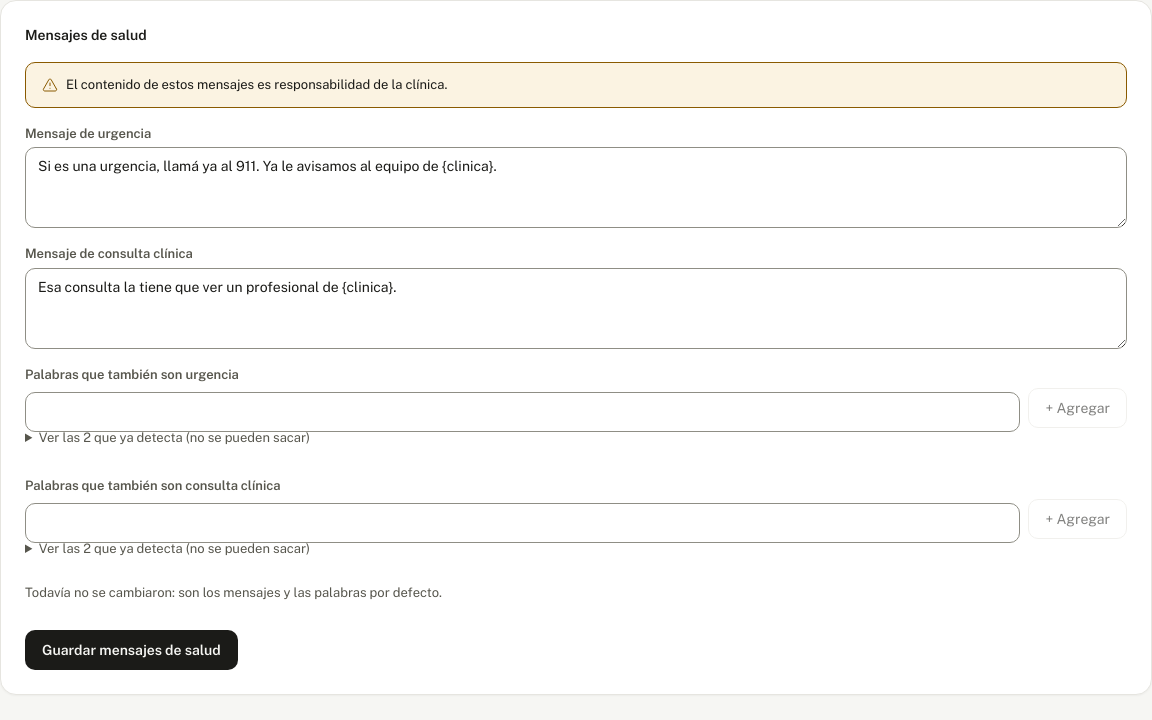
Test: MensajesDeSaludSection › guarda con su propio botón: el texto por defecto viaja como null y los términos agregados
Type "Botox" into the field labelled "Palabras que también son consulta clínica" at (523, 523), box [25, 503, 1020, 543]
Then press Enter
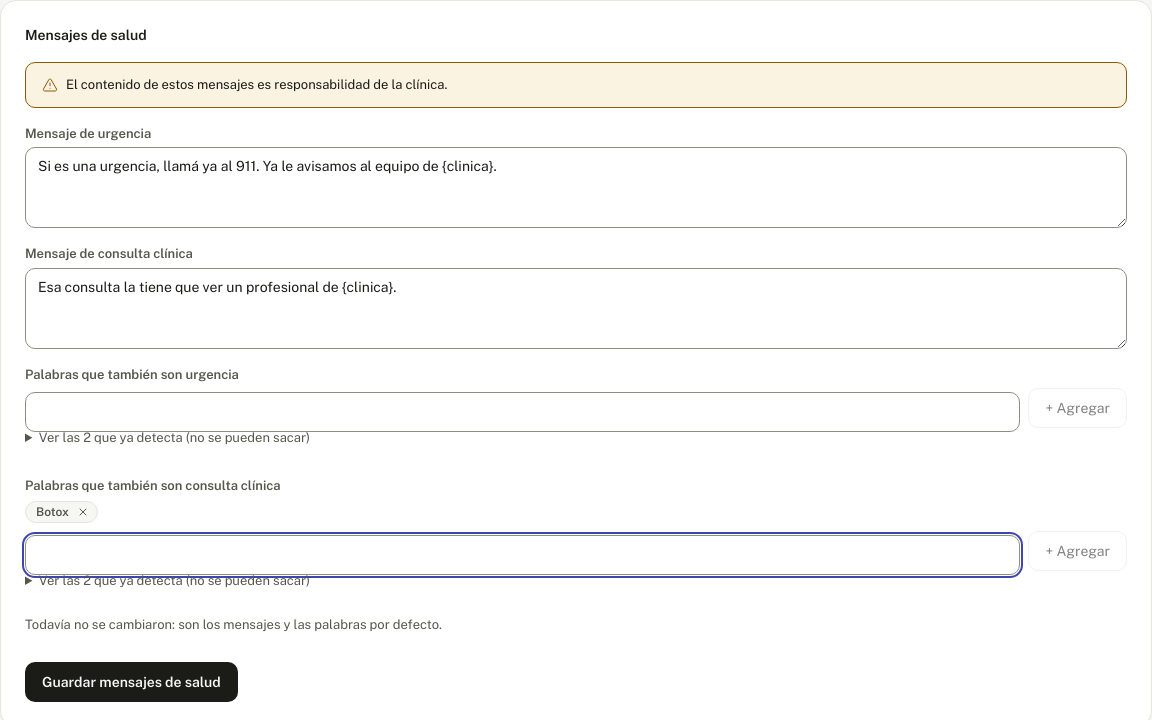
Click the button "Guardar mensajes de salud" at (131, 682), box [25, 662, 238, 702]
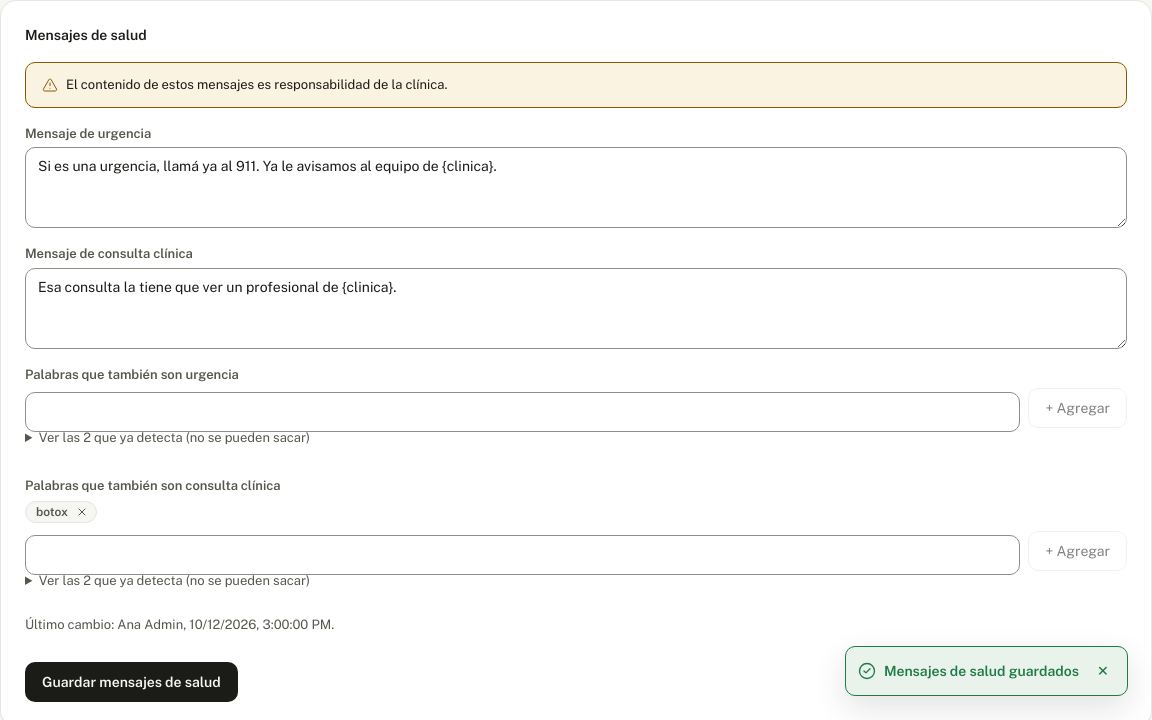
Now the text "botox" is shown, box [25, 501, 97, 523]
Now the text "Último cambio: Ana Admin, 10/12/2026, 3:00:00 PM." is shown, box [25, 616, 334, 632]
